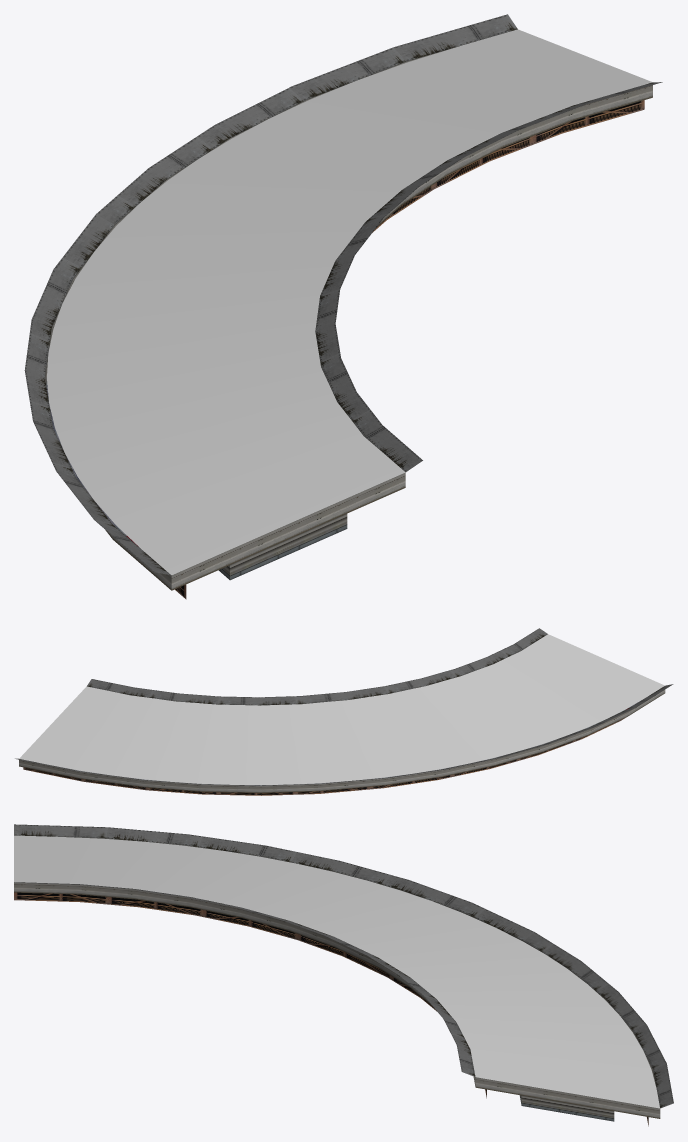
The model's file is Bend2x2BankedB.fbx.
The picture shows the model from 3 angles, top to bottom: view 1: azimuth 30°, elevation 25°; view 2: azimuth 150°, elevation 25°; view 3: azimuth 270°, elevation 25°; orthographic projection. The views are drawn at different scales.
Parts seen in each view (by area): view 1: Empty_Mesh; view 2: Empty_Mesh; view 3: Empty_Mesh.
Part boxes in pixels (box(x1,y1,x2,y2)): Empty_Mesh: box(24, 14, 662, 599); Empty_Mesh: box(15, 628, 673, 795); Empty_Mesh: box(14, 824, 673, 1126).
Bounding box in the file's own units: 57.2 × 5.31 × 57.2.
